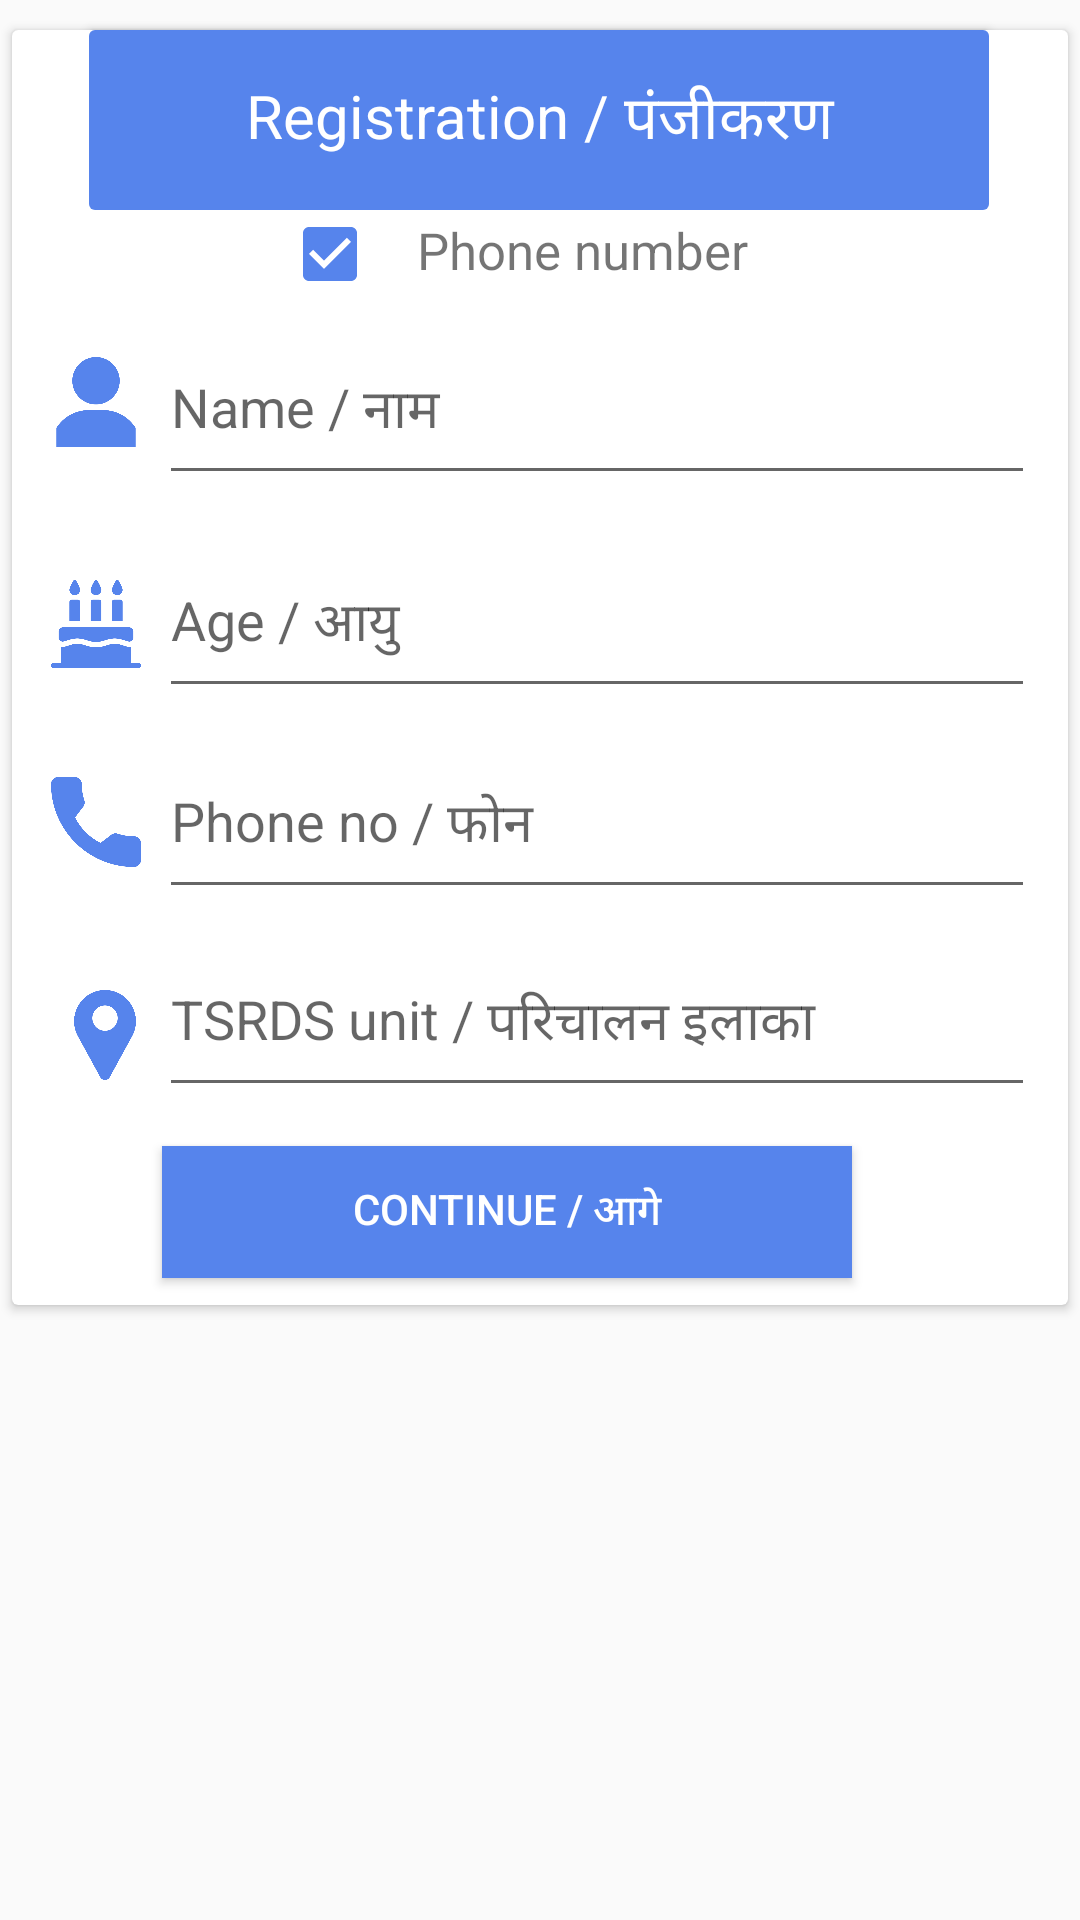

Icon click points for this 1080*1920 phone screenshot, format point (x, y):
cake: point (96, 624)
location: point (105, 1035)
user: point (96, 402)
